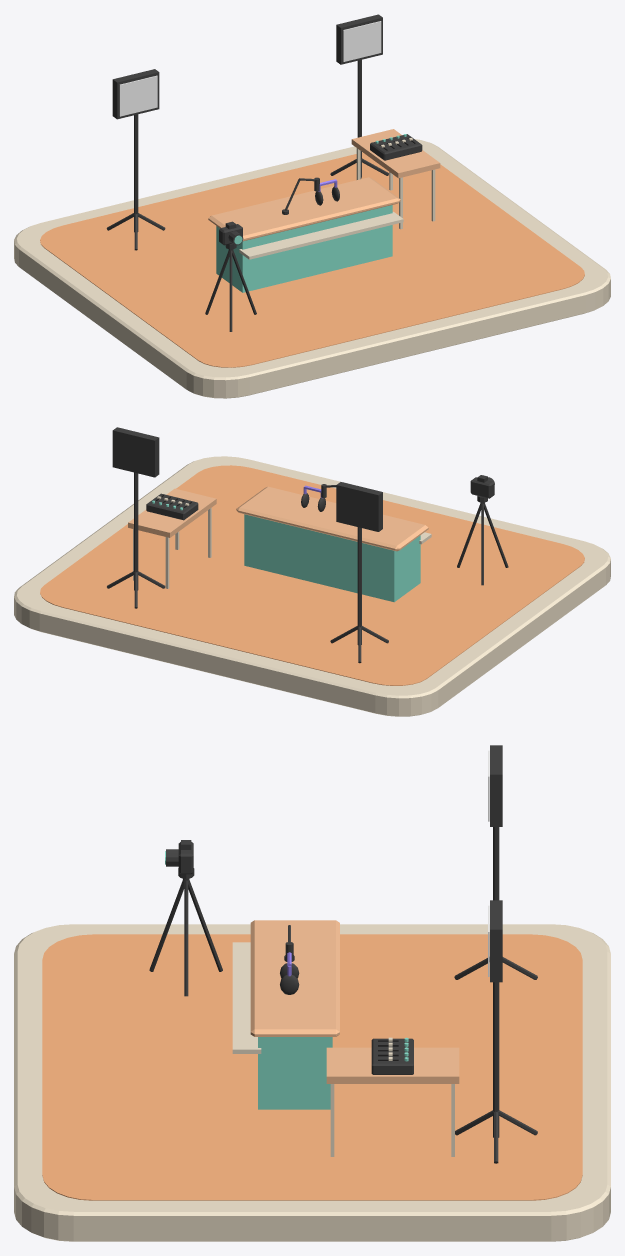
3 renders of one model, top to bottom at view 1: azimuth 30°, elevation 25°; view 2: azimuth 150°, elevation 25°; view 3: azimuth 270°, elevation 25°, orthographic. The views are drawn at different scales.
Parts seen in each view (by area): view 1: COM-02 Floor Surface, COM-01 Rounded Base Direct, Counter body, Countertop, Top, Visitor shelf, Diffuser, Diffuser.001, Audio console, Light panel, Light panel.001, Pole; view 2: COM-02 Floor Surface, COM-01 Rounded Base Direct, Counter body, Countertop, Top, Light panel.001, Light panel, Audio console, Pole, Pole.001, Body; view 3: COM-02 Floor Surface, COM-01 Rounded Base Direct, Countertop, Counter body, Top, Visitor shelf, Audio console, Light panel.001, Light panel, Pole.001.
Boxes of the visible parts, x1=… form: COM-02 Floor Surface: x1=40, y1=152, x2=584, y2=367; COM-01 Rounded Base Direct: x1=14, y1=139, x2=610, y2=398; Counter body: x1=216, y1=205, x2=392, y2=292; Countertop: x1=208, y1=177, x2=400, y2=241; Top: x1=351, y1=129, x2=440, y2=229; Visitor shelf: x1=239, y1=211, x2=403, y2=259; Diffuser: x1=119, y1=75, x2=157, y2=116; Diffuser.001: x1=343, y1=21, x2=381, y2=61; Audio console: x1=370, y1=134, x2=422, y2=160; Light panel: x1=112, y1=69, x2=159, y2=119; Light panel.001: x1=336, y1=14, x2=382, y2=64; Pole: x1=134, y1=114, x2=138, y2=232; COM-02 Floor Surface: x1=40, y1=465, x2=584, y2=685; COM-01 Rounded Base Direct: x1=14, y1=456, x2=610, y2=716; Counter body: x1=244, y1=514, x2=420, y2=602; Countertop: x1=236, y1=486, x2=428, y2=551; Top: x1=128, y1=488, x2=216, y2=588; Light panel.001: x1=112, y1=427, x2=159, y2=477; Light panel: x1=336, y1=482, x2=382, y2=531; Audio console: x1=146, y1=493, x2=198, y2=520; Pole: x1=357, y1=527, x2=361, y2=644; Pole.001: x1=134, y1=472, x2=138, y2=590; Body: x1=470, y1=477, x2=494, y2=498; COM-02 Floor Surface: x1=42, y1=934, x2=582, y2=1200; COM-01 Rounded Base Direct: x1=14, y1=924, x2=610, y2=1241; Countertop: x1=250, y1=920, x2=339, y2=1036; Counter body: x1=258, y1=1037, x2=332, y2=1109; Top: x1=326, y1=1047, x2=459, y2=1156; Visitor shelf: x1=232, y1=942, x2=261, y2=1053; Audio console: x1=371, y1=1038, x2=413, y2=1074; Light panel.001: x1=490, y1=900, x2=502, y2=982; Light panel: x1=490, y1=745, x2=502, y2=826; Pole.001: x1=493, y1=982, x2=499, y2=1137.
Bounding box in the file's own units: 6 × 2.5 × 5.2.
1 material, 1 textured.
